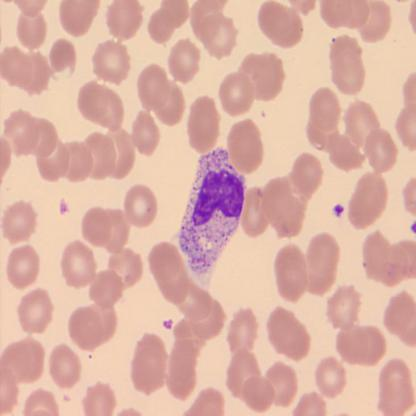Metamyelocyte: (175, 143, 250, 278)
